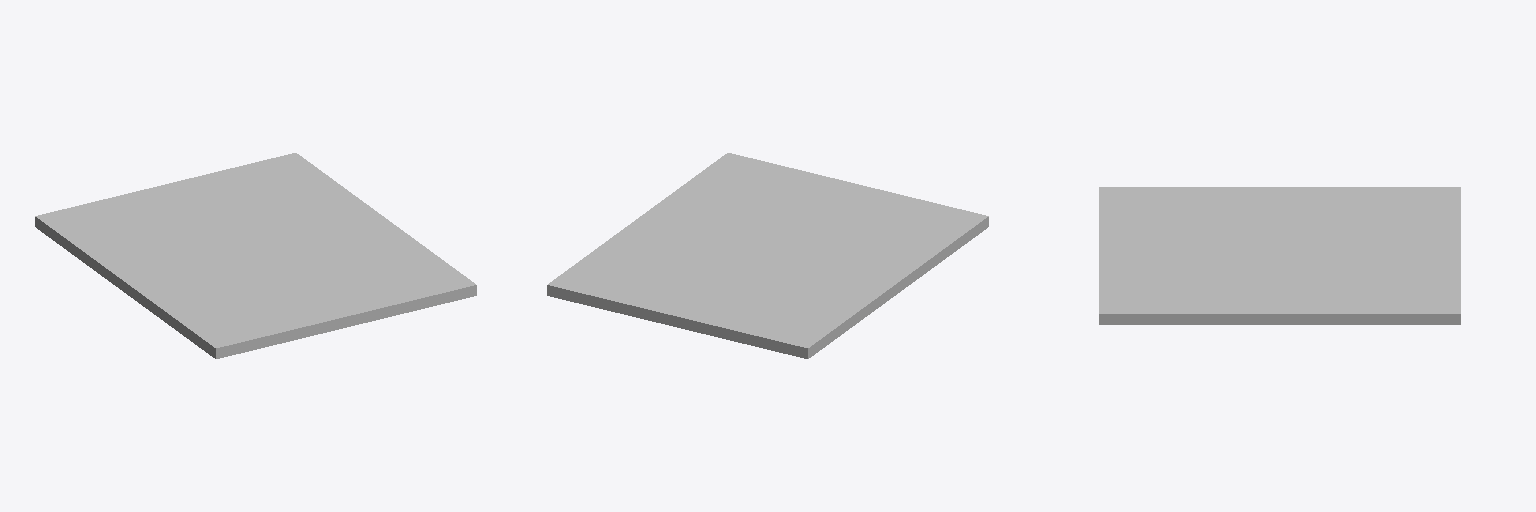
The model's file is floor14.obj.
3 views of the same model, side by side, from view 1: azimuth 30°, elevation 25°; view 2: azimuth 150°, elevation 25°; view 3: azimuth 270°, elevation 25° (orthographic).
Visible parts, largest first — view 1: Cube; view 2: Cube; view 3: Cube.
Boxes of the visible parts, x1=… form: Cube: x1=35, y1=153, x2=476, y2=358; Cube: x1=547, y1=153, x2=988, y2=358; Cube: x1=1099, y1=187, x2=1460, y2=324.
Bounding box in the file's own units: 5 × 0.2 × 6.